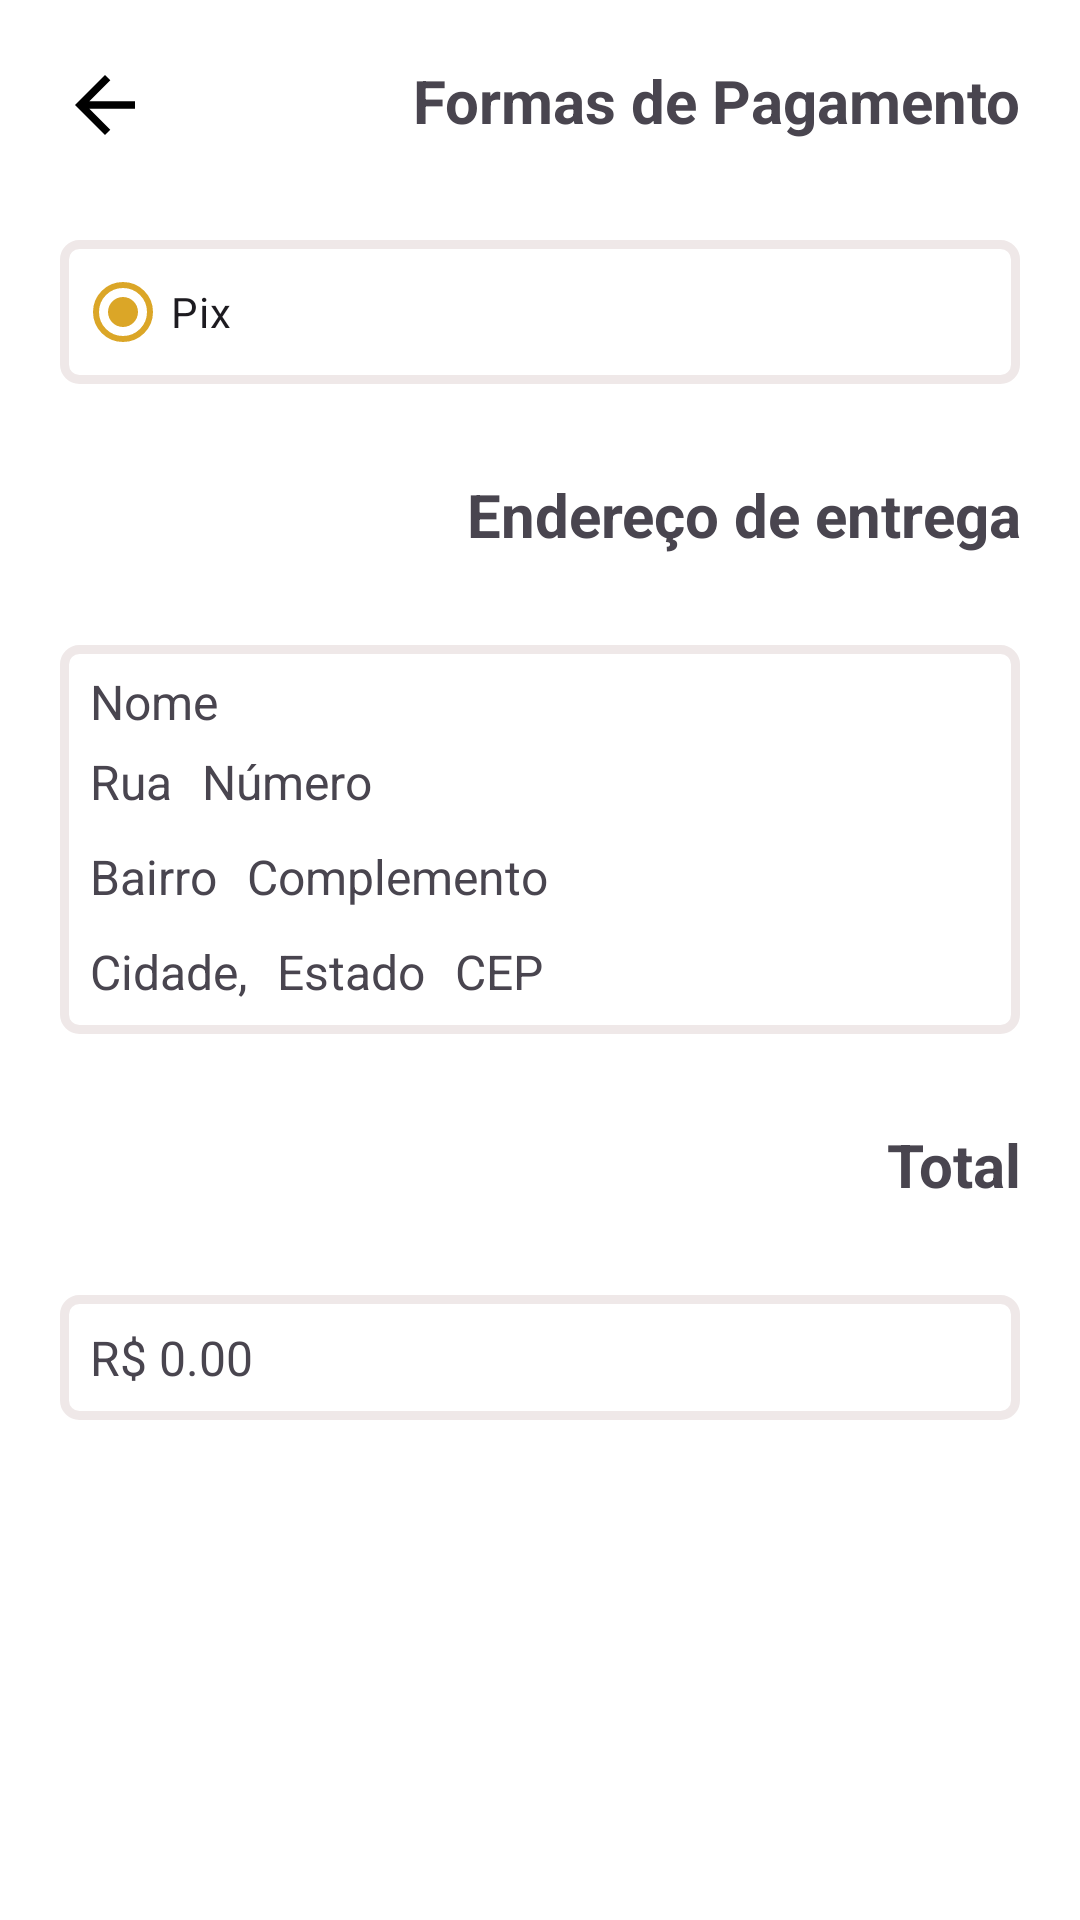

Where to tap for icons on this 1080 x 1920 app screen, as [x,y]:
back arrow: [105,105]
